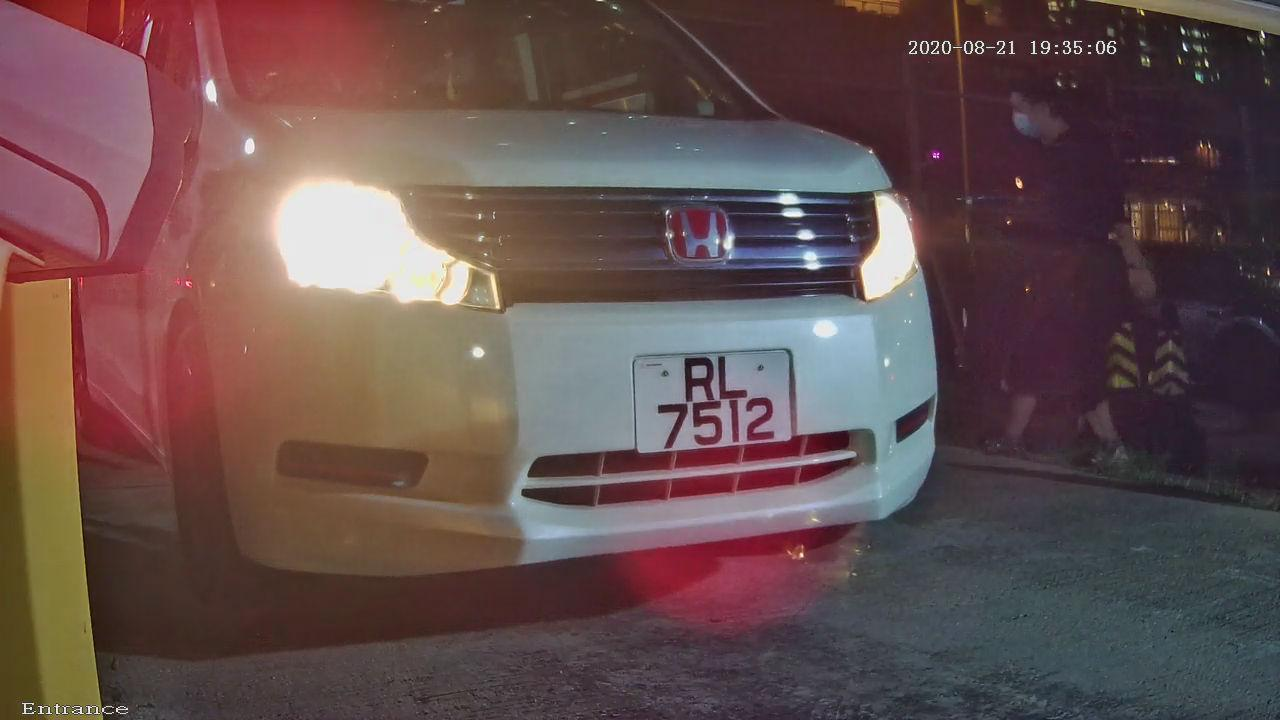Car: (46, 17, 1069, 643)
License Plate: (612, 335, 812, 470)
